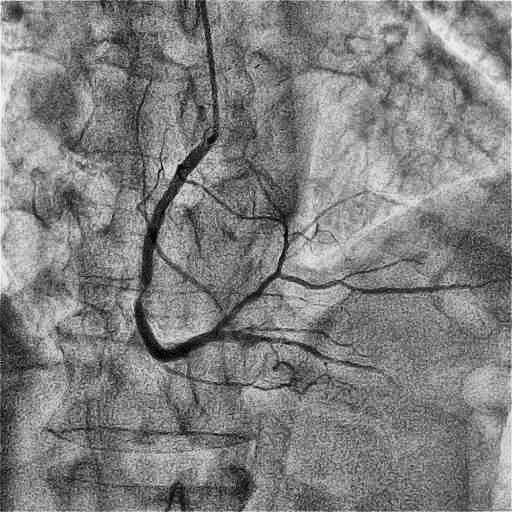pborca: (216, 273, 486, 329)
pda: (215, 330, 383, 374)
rca: (134, 145, 219, 362)
